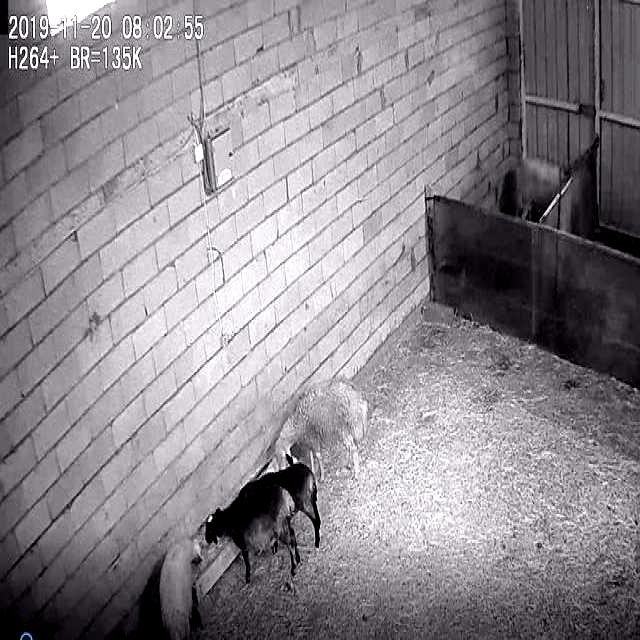sheep: (275, 381, 365, 484)
